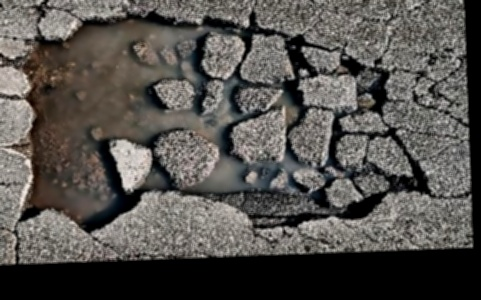pothole: (6, 0, 442, 242)
